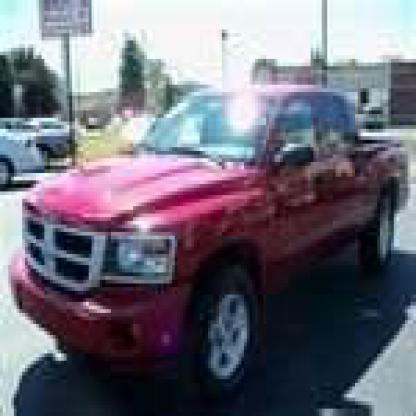Vehicle: (8, 81, 414, 405)
